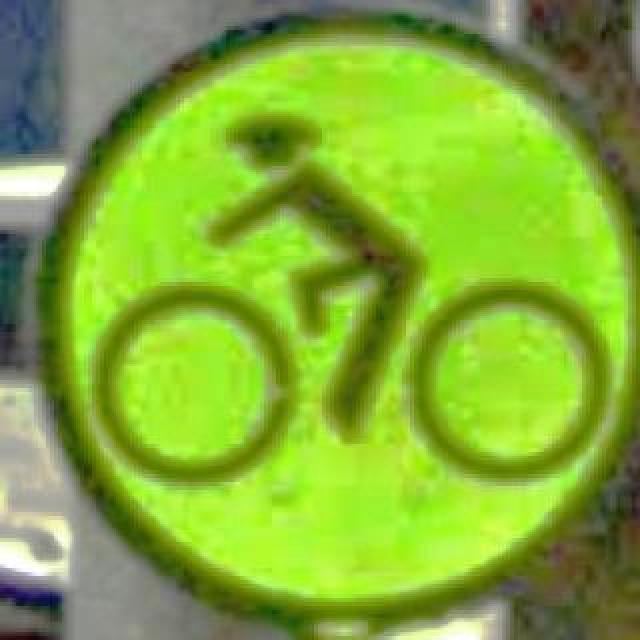bike lane: (32, 8, 636, 620)
